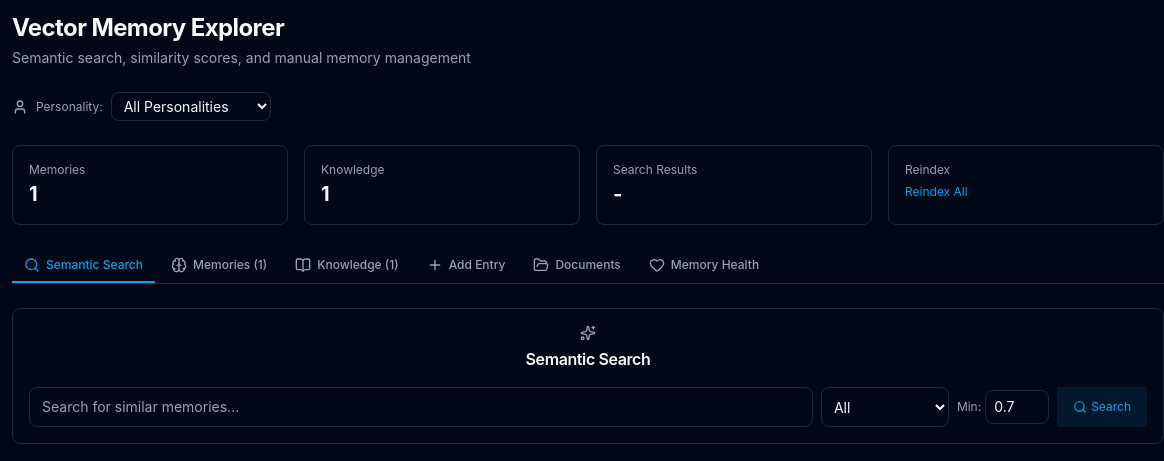
Test: VectorMemoryExplorerPage › shows knowledge entries when data exists
This screenshot has width=1164, height=461.
Click the button "Knowledge (1)": (347, 266) [283,249,411,283]
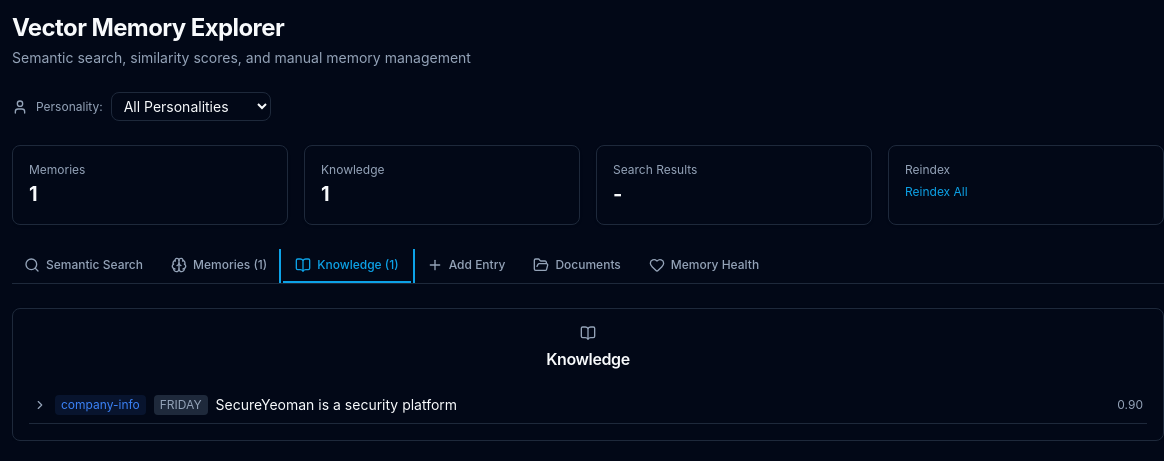
Expected: the text "company-info" is shown, [55,395,146,415]
